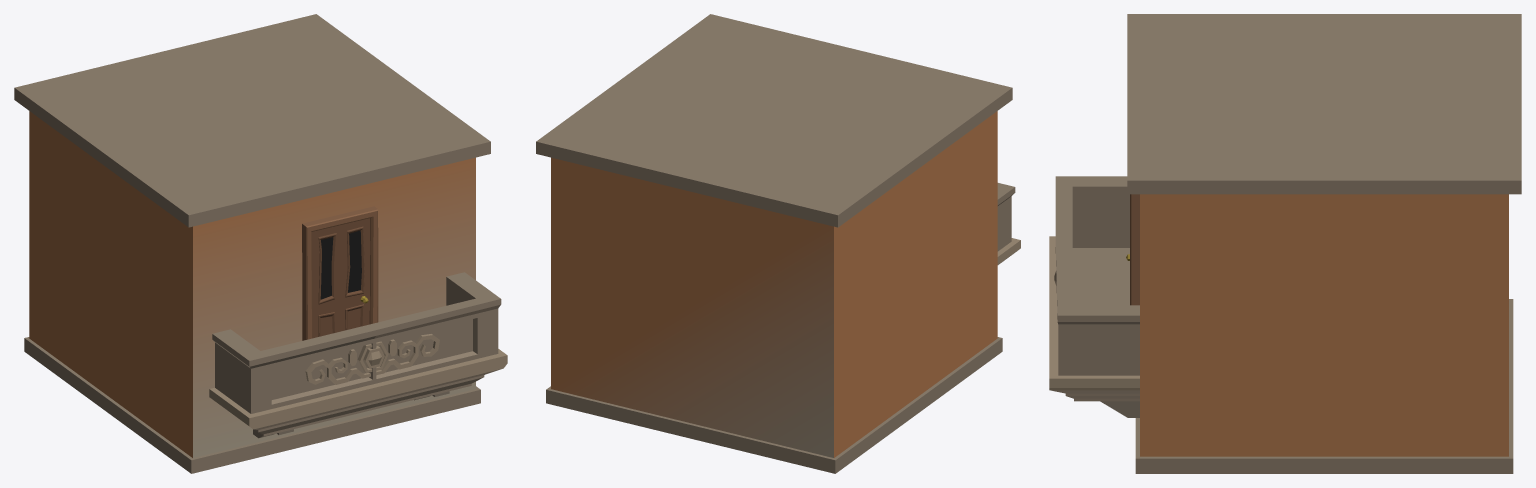
File: SM_Bld_Cuba_Room_06.glb
The picture shows the model from 3 angles, left to right: view 1: azimuth 30°, elevation 25°; view 2: azimuth 150°, elevation 25°; view 3: azimuth 270°, elevation 25°; orthographic projection. The views are drawn at different scales.
Visible parts, largest first — view 1: SM_Bld_Cuba_Room_06; view 2: SM_Bld_Cuba_Room_06; view 3: SM_Bld_Cuba_Room_06.
Part boxes in pixels (x1,y1,x2,y2): SM_Bld_Cuba_Room_06: (14, 14, 507, 473); SM_Bld_Cuba_Room_06: (536, 14, 1020, 473); SM_Bld_Cuba_Room_06: (1049, 14, 1521, 473).
Bounding box in the file's own units: 0.04 × 0.0333 × 0.0479.
